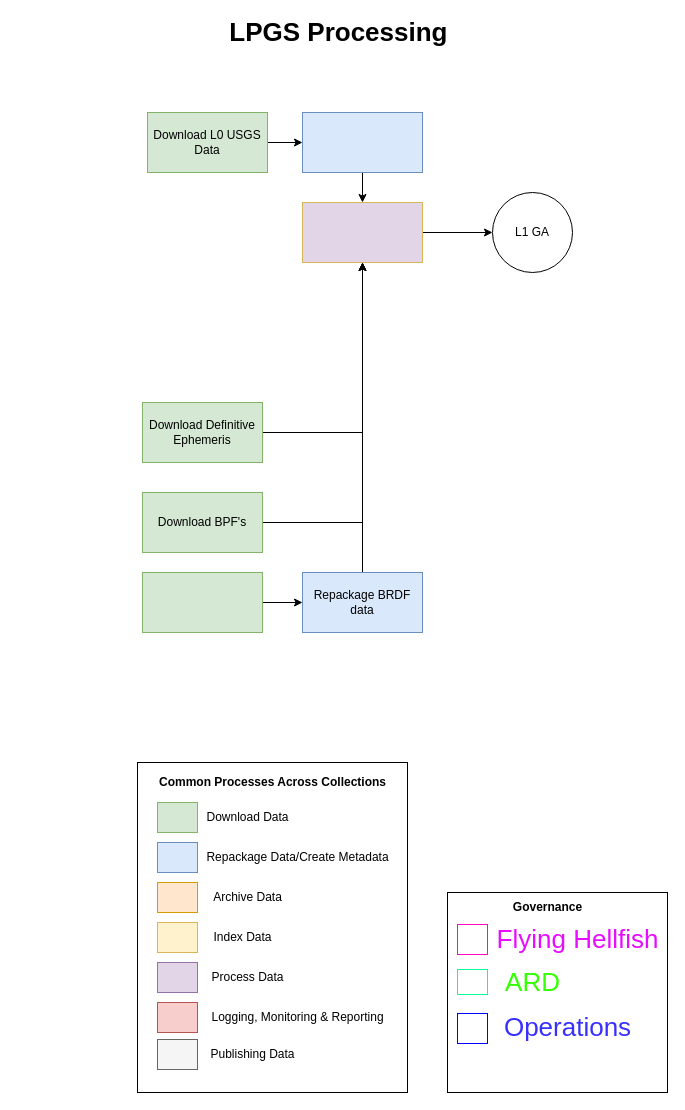
The diagram is 685 pixels wide and 1110 high, and some of its shapes have lost their labels. Here are the shapes that lost their labels. From the top down, the centre of each, then its label:
(x=362, y=142): Repackage L0 USGS data
(x=362, y=232): Process L0 USGS to L1 GA using LPGS with GA parameters.
(x=202, y=602): Download CPF's
